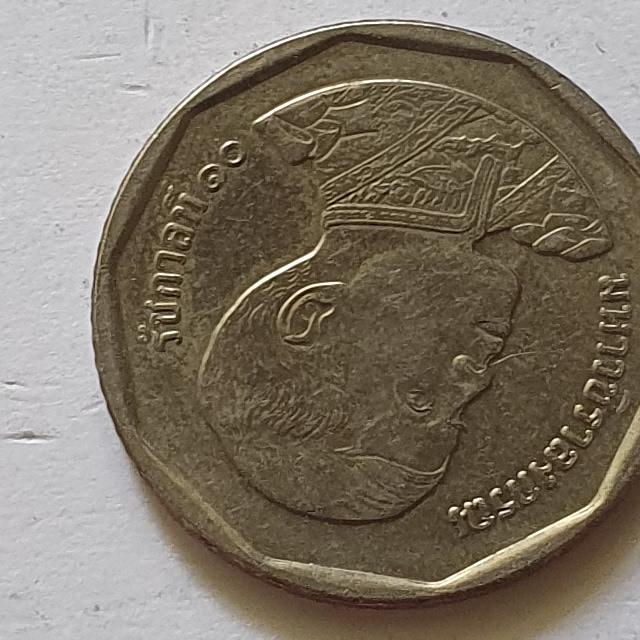5 Bath: (84, 17, 640, 617)
